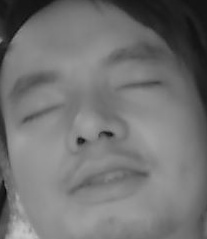blink: (115, 76, 161, 95), (22, 103, 63, 124)
mouth: (65, 152, 149, 206)
